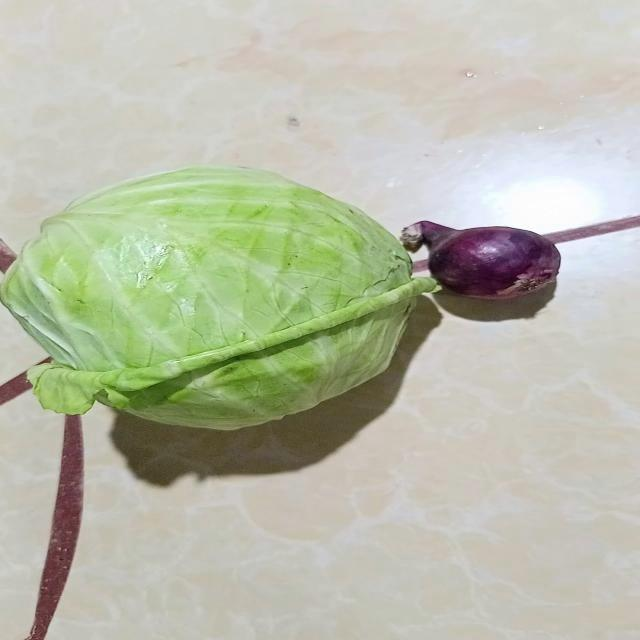cabbage: (3, 167, 429, 433)
onion: (402, 221, 562, 301)
